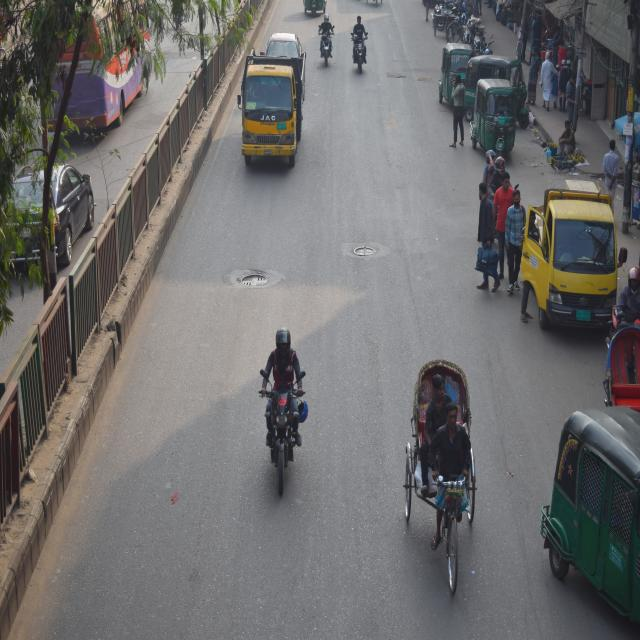motorbike: (242, 339, 310, 506), (346, 15, 382, 84), (313, 13, 339, 75)
pickup-van: (504, 170, 640, 346), (227, 22, 319, 178)
